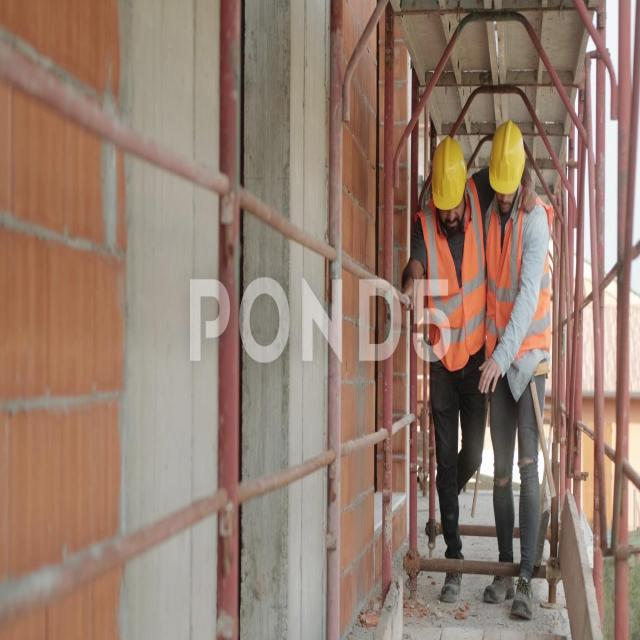Helmet: (418, 123, 488, 249), (480, 95, 538, 220)
Safety Vest: (393, 172, 502, 396), (472, 186, 566, 402)
